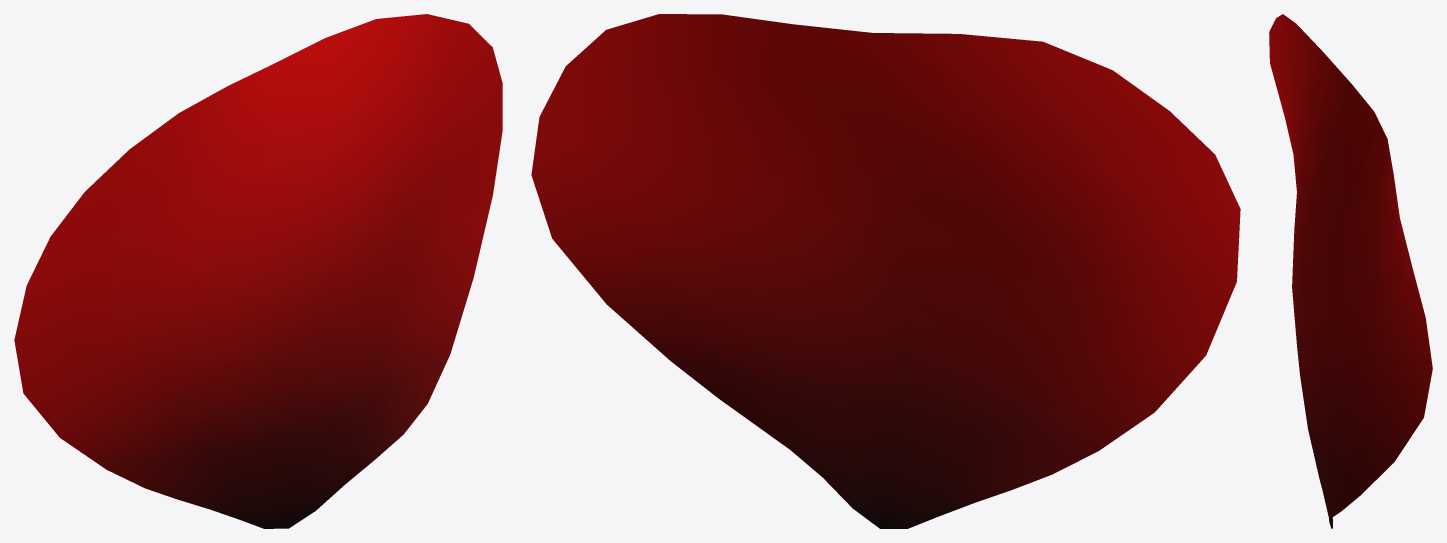
3 renders of one model, left to right at view 1: azimuth 30°, elevation 25°; view 2: azimuth 150°, elevation 25°; view 3: azimuth 270°, elevation 25°, orthographic. The views are drawn at different scales.
Visible parts, largest first — view 1: gorgonian coral final; view 2: gorgonian coral final; view 3: gorgonian coral final.
Part boxes in pixels (x1,y1,x2,y2): gorgonian coral final: [14, 14, 502, 528]; gorgonian coral final: [531, 14, 1240, 528]; gorgonian coral final: [1269, 14, 1432, 528].
Size of the model in its own units: 1.85 by 1.45 by 0.4823.
